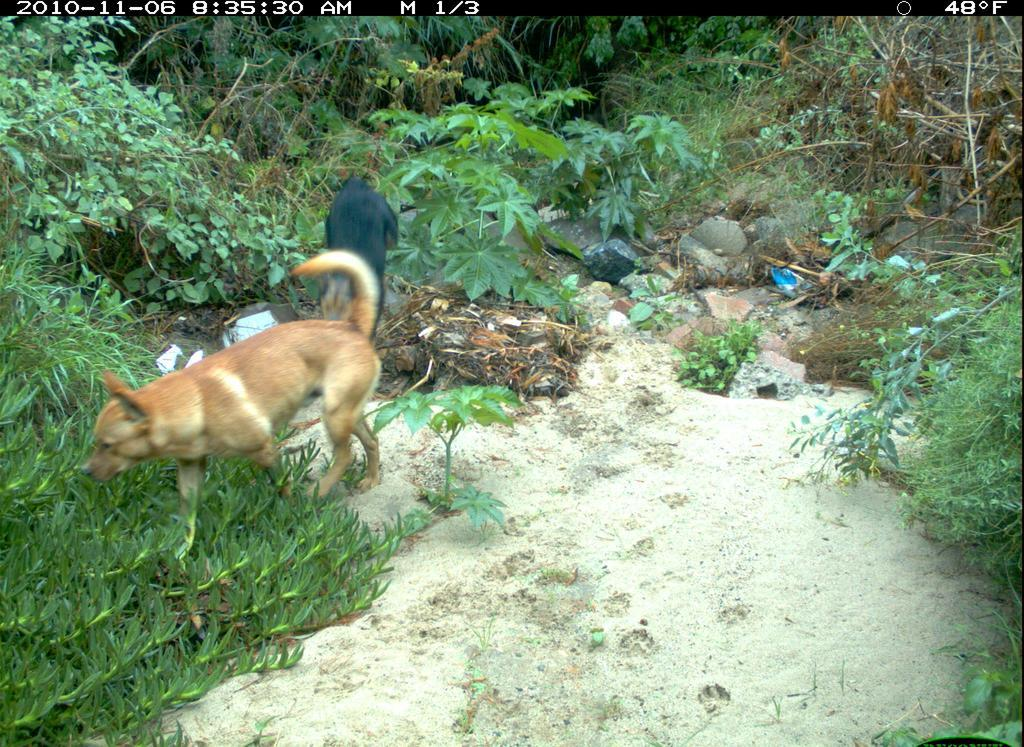dog: (88, 254, 388, 557), (303, 154, 417, 341)
